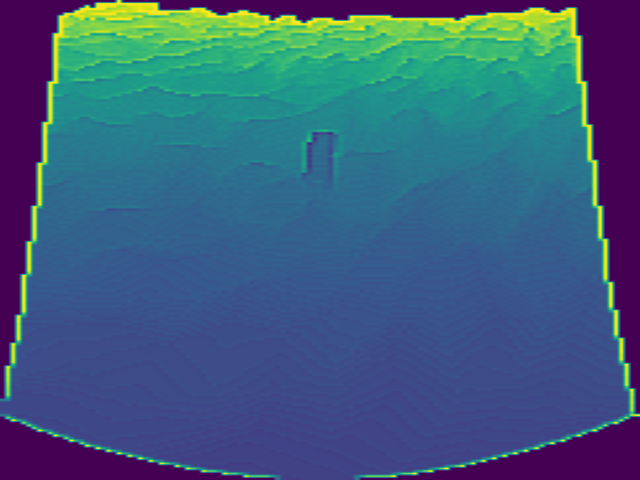car_0198: (304, 130, 337, 190)
